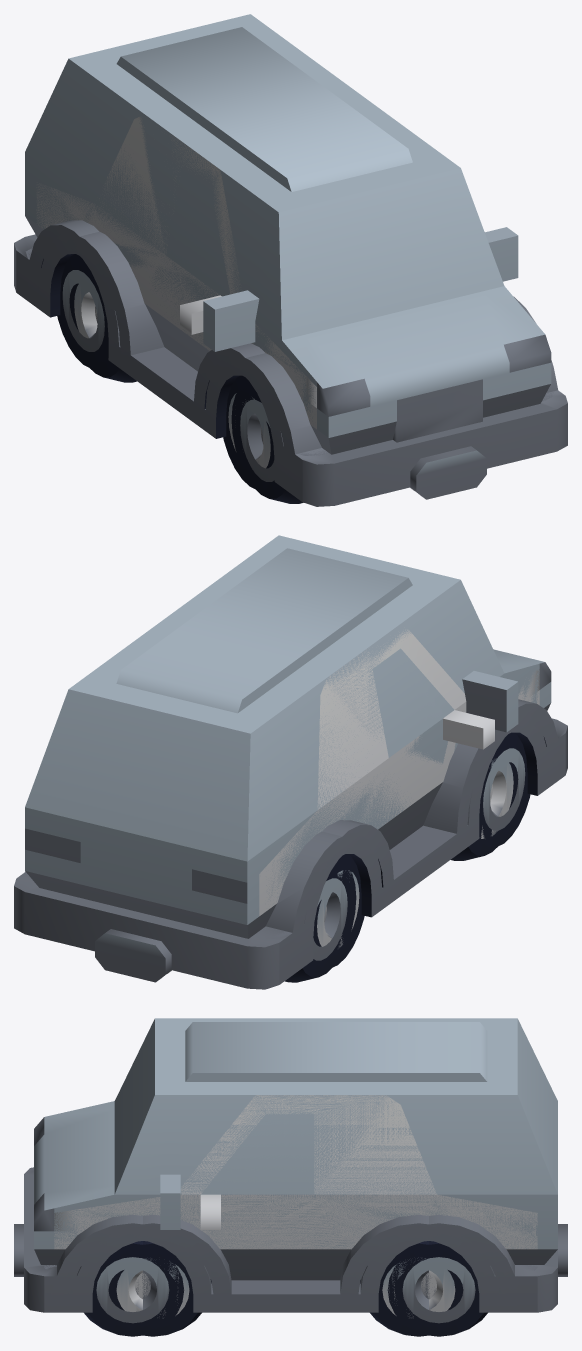
The model's file is kenney-cars.glb.
3 views of the same model, one above another, from view 1: azimuth 30°, elevation 25°; view 2: azimuth 150°, elevation 25°; view 3: azimuth 270°, elevation 25° (orthographic). The views are drawn at different scales.
Parts seen in each view (by area): view 1: van, sedan; view 2: van, sedan; view 3: van, sedan.
Part boxes in pixels (x1=…): van: x1=14, y1=14, x2=567, y2=506; sedan: x1=25, y1=117, x2=553, y2=493; van: x1=14, y1=535, x2=567, y2=989; sedan: x1=26, y1=629, x2=553, y2=975; van: x1=14, y1=1018, x2=567, y2=1336; sedan: x1=44, y1=1095, x2=537, y2=1336.
Size of the model in its own units: 1.5 by 1.35 by 2.75.
